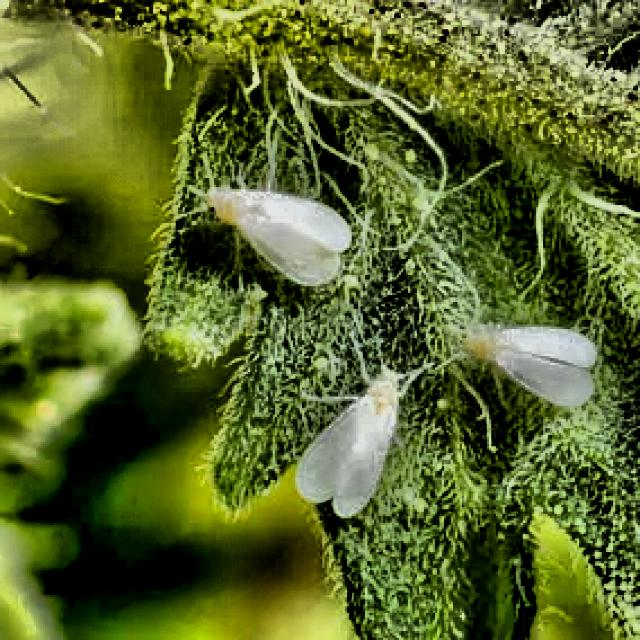whitefly: (300, 370, 401, 516), (212, 189, 352, 284), (469, 325, 597, 406)
